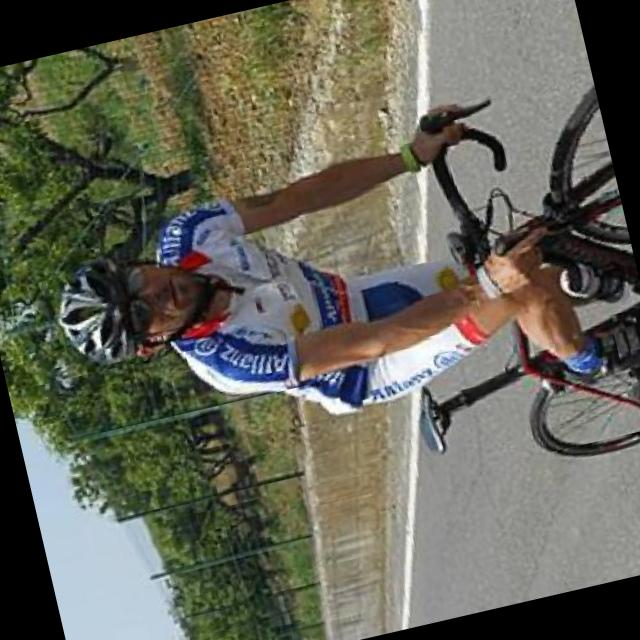With Helmet: (44, 230, 230, 384)
